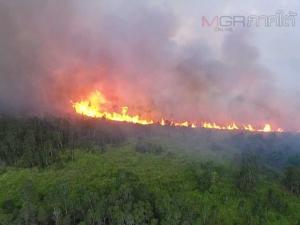fire: (53, 56, 300, 204)
